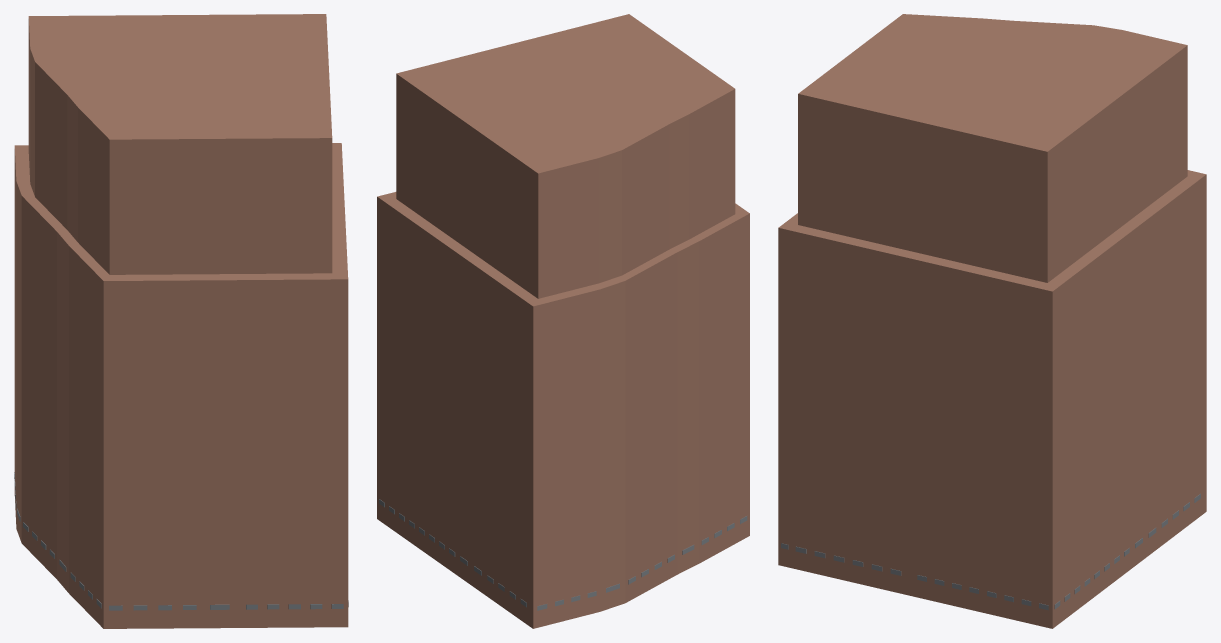
The model's file is doitt-131170__lod_1.glb.
The picture shows the model from 3 angles, left to right: view 1: azimuth 30°, elevation 25°; view 2: azimuth 150°, elevation 25°; view 3: azimuth 270°, elevation 25°; orthographic projection. The views are drawn at different scales.
Parts seen in each view (by area): view 1: doitt:131170__lod_1__herald_base, doitt:131170__lod_1__herald_upper; view 2: doitt:131170__lod_1__herald_base, doitt:131170__lod_1__herald_upper; view 3: doitt:131170__lod_1__herald_base, doitt:131170__lod_1__herald_upper.
Boxes of the visible parts, x1=… form: doitt:131170__lod_1__herald_base: x1=14, y1=143, x2=348, y2=628; doitt:131170__lod_1__herald_upper: x1=28, y1=14, x2=332, y2=274; doitt:131170__lod_1__herald_base: x1=377, y1=192, x2=749, y2=628; doitt:131170__lod_1__herald_upper: x1=396, y1=14, x2=735, y2=298; doitt:131170__lod_1__herald_base: x1=778, y1=170, x2=1206, y2=628; doitt:131170__lod_1__herald_upper: x1=798, y1=14, x2=1187, y2=282.
Bounding box in the file's own units: 68.79 × 99.22 × 82.16.
